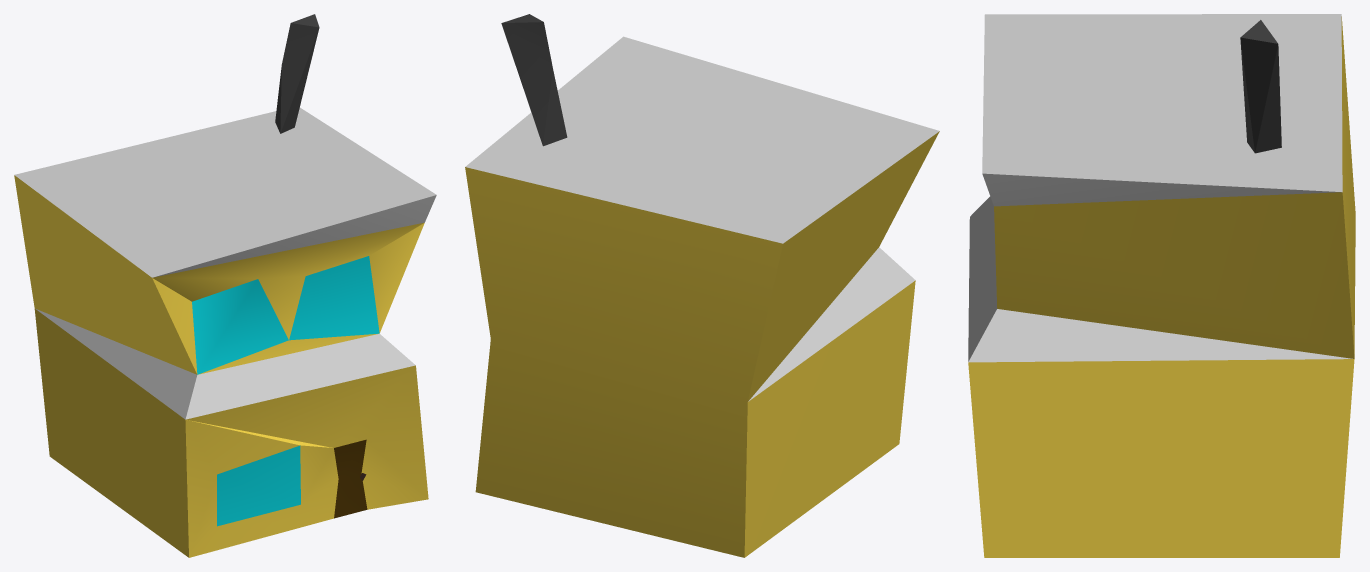
The model's file is PredioPequeno-AmareloLOD2.fbx.
3 views of the same model, side by side, from view 1: azimuth 30°, elevation 25°; view 2: azimuth 150°, elevation 25°; view 3: azimuth 270°, elevation 25° (orthographic). The views are drawn at different scales.
Parts seen in each view (by area): view 1: Predio2AndaresLOD2; view 2: Predio2AndaresLOD2; view 3: Predio2AndaresLOD2.
Part boxes in pixels (x1,y1,x2,y2): Predio2AndaresLOD2: [14, 14, 436, 557]; Predio2AndaresLOD2: [465, 14, 939, 557]; Predio2AndaresLOD2: [968, 14, 1355, 557].
Size of the model in its own units: 718 by 975 by 660.
